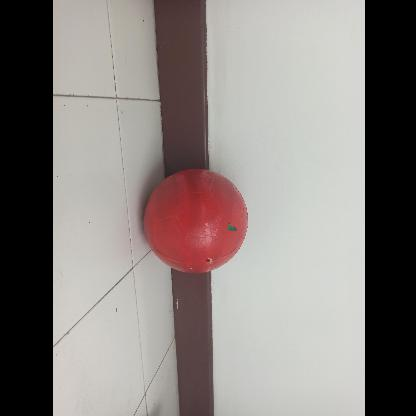red_ball: (144, 168, 248, 272)
